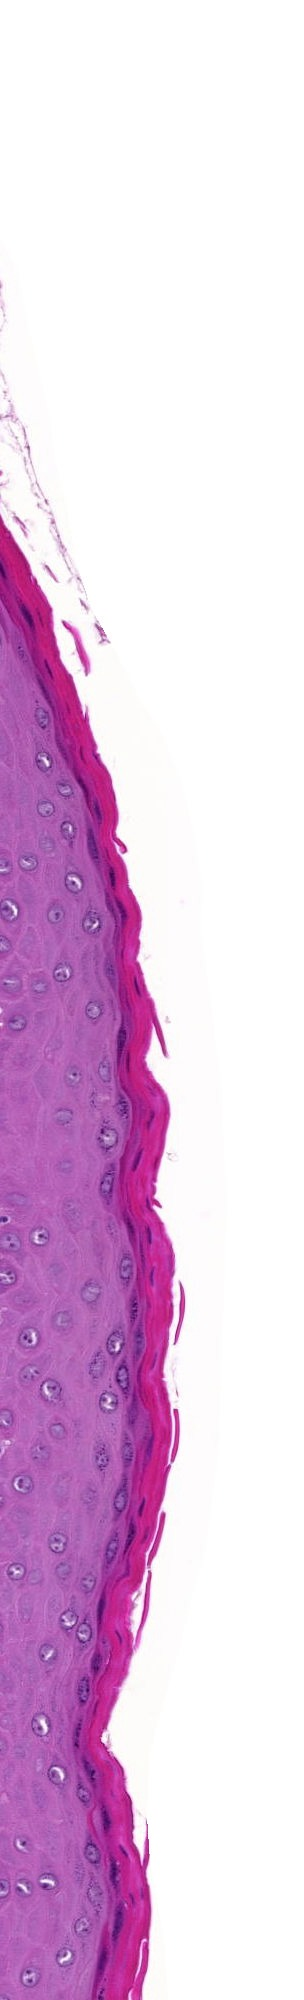epithelial: (124, 1267, 128, 1273), (123, 1376, 126, 1383), (6, 1240, 11, 1244), (135, 1342, 141, 1346), (121, 907, 124, 913), (103, 1818, 106, 1824), (89, 841, 93, 844), (95, 1661, 98, 1665), (41, 713, 43, 718), (114, 1872, 116, 1878), (43, 807, 46, 811), (110, 1548, 112, 1552), (101, 1605, 103, 1608), (83, 1793, 86, 1797), (47, 843, 50, 846), (38, 986, 41, 989), (92, 1011, 95, 1014), (103, 1069, 106, 1071), (152, 1273, 155, 1276), (133, 1409, 134, 1415), (102, 1455, 103, 1460), (107, 902, 109, 906), (125, 1452, 126, 1455), (119, 1496, 120, 1500), (84, 1686, 86, 1690), (95, 811, 97, 812), (65, 1116, 66, 1119), (88, 1290, 89, 1292), (77, 1731, 78, 1733), (91, 1855, 92, 1857), (63, 1570, 64, 1571)
